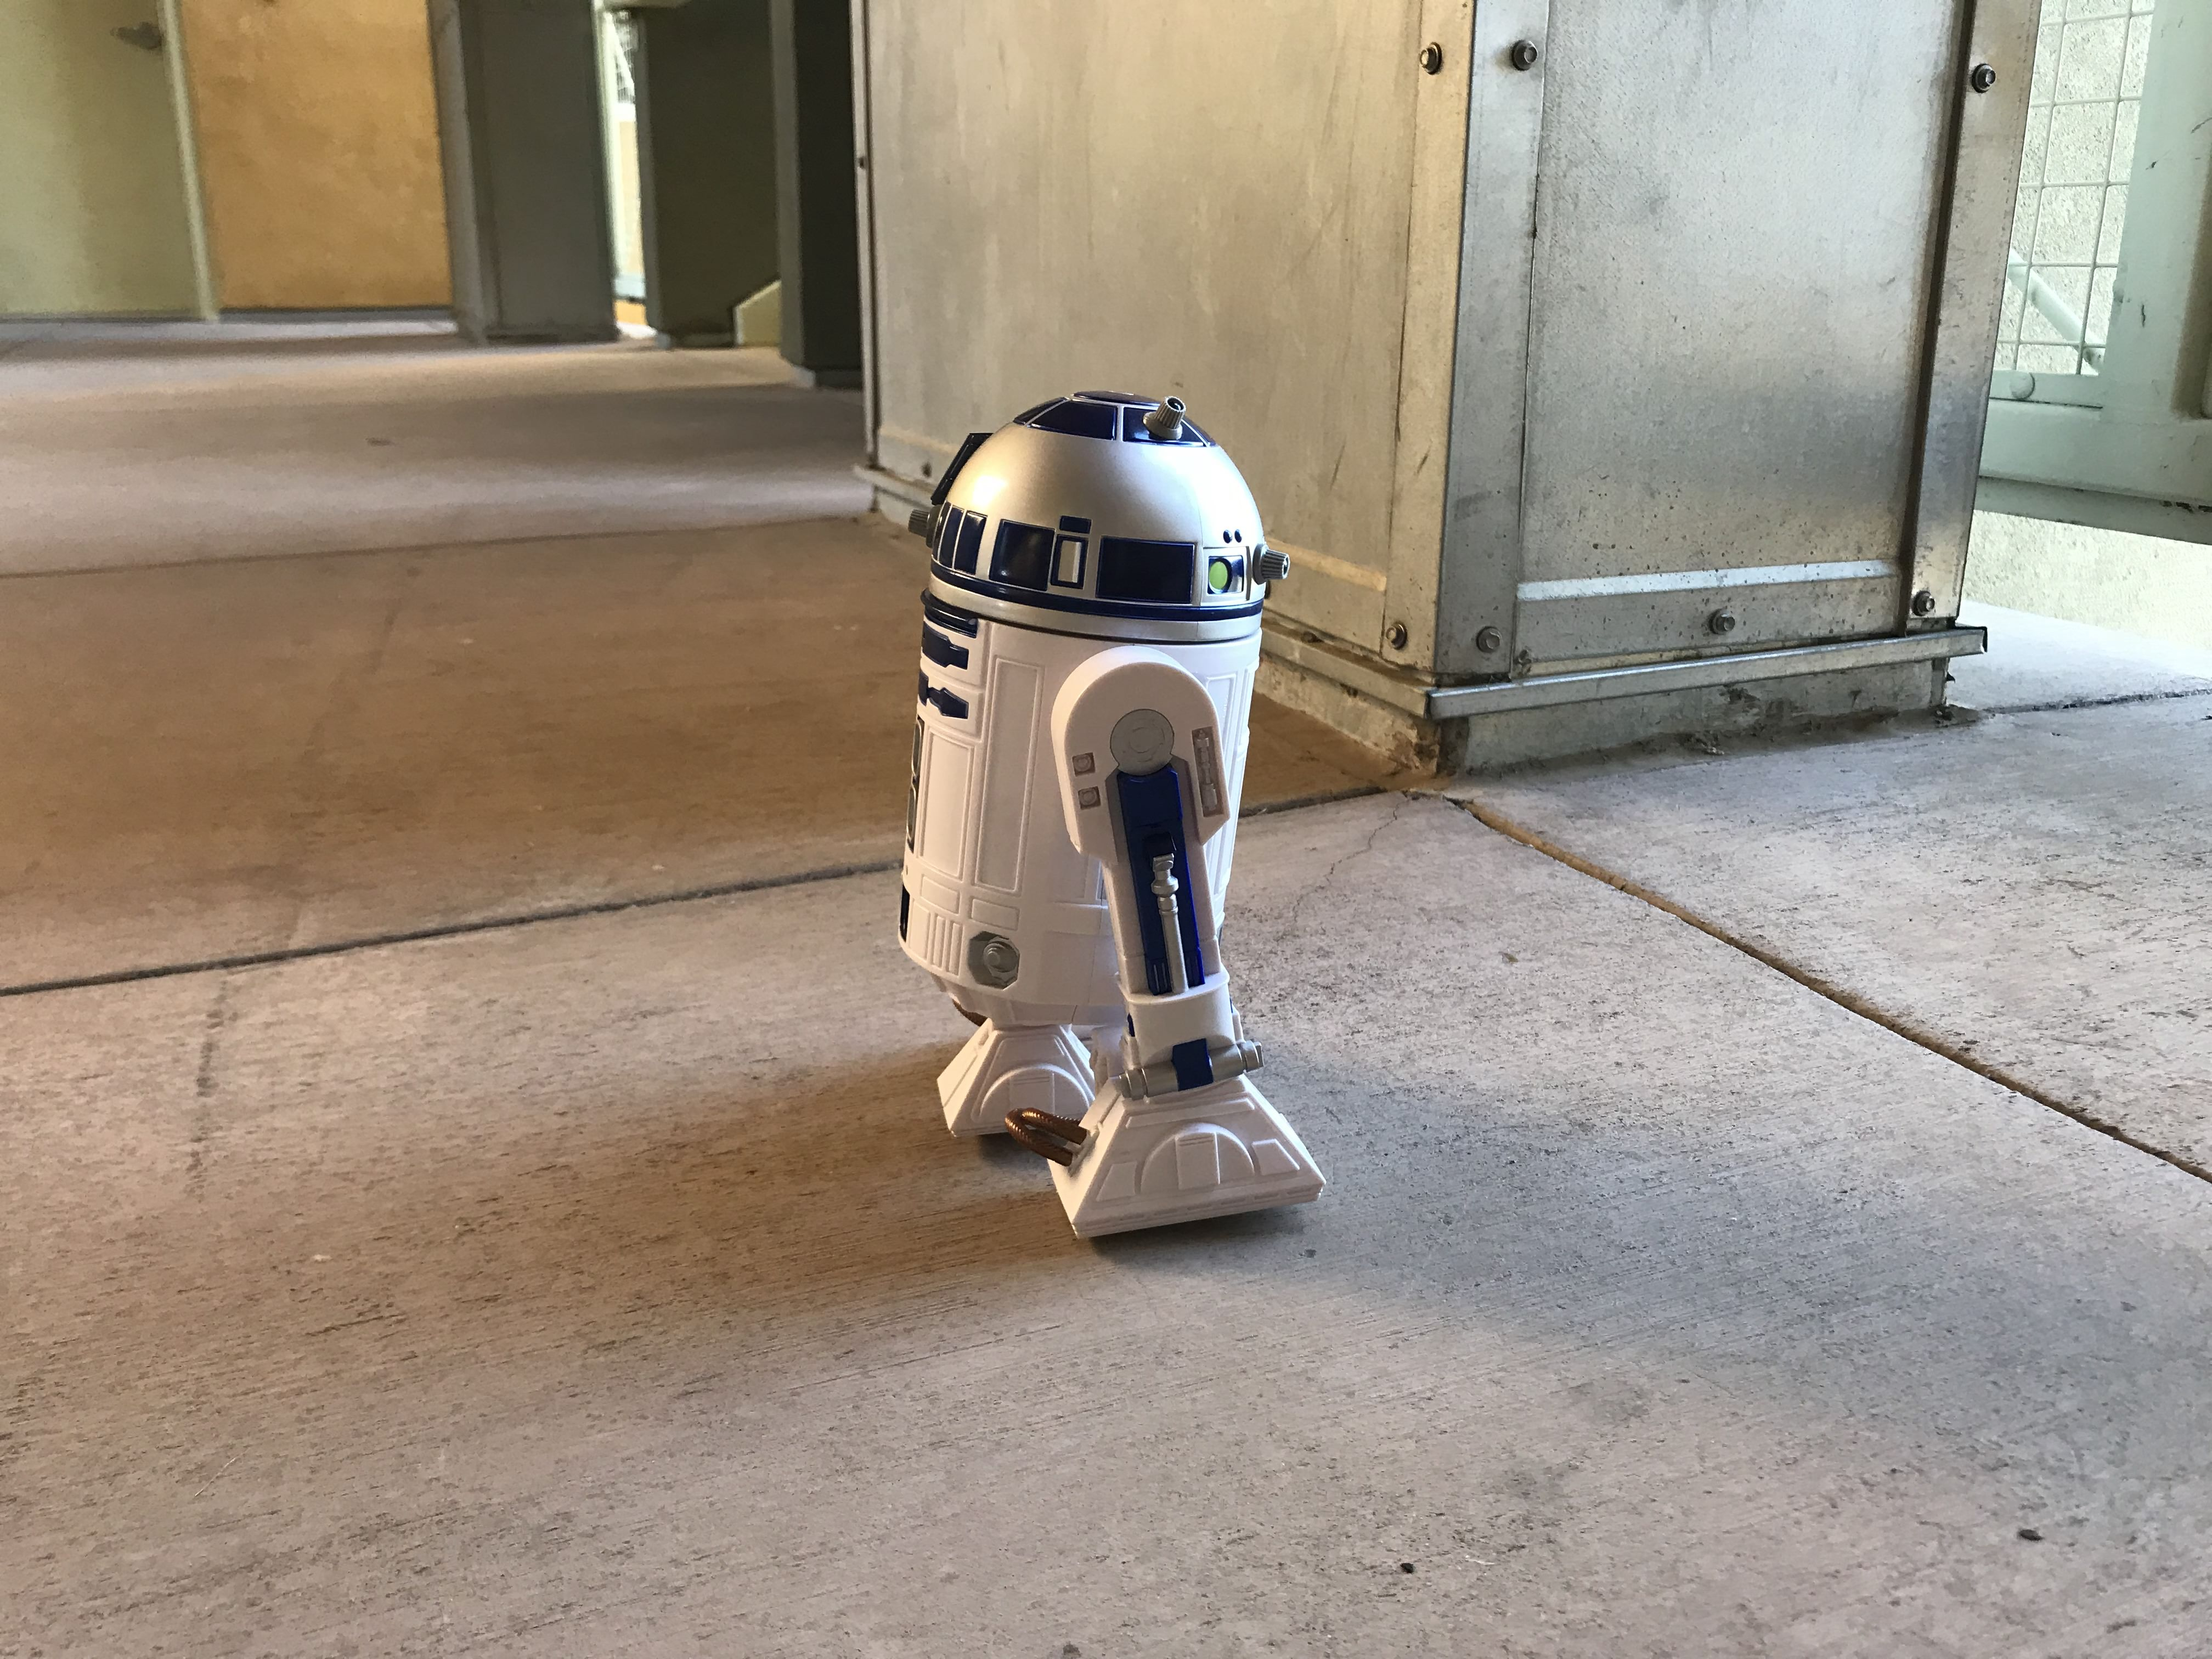r2d2: (892, 387, 1322, 1243)
